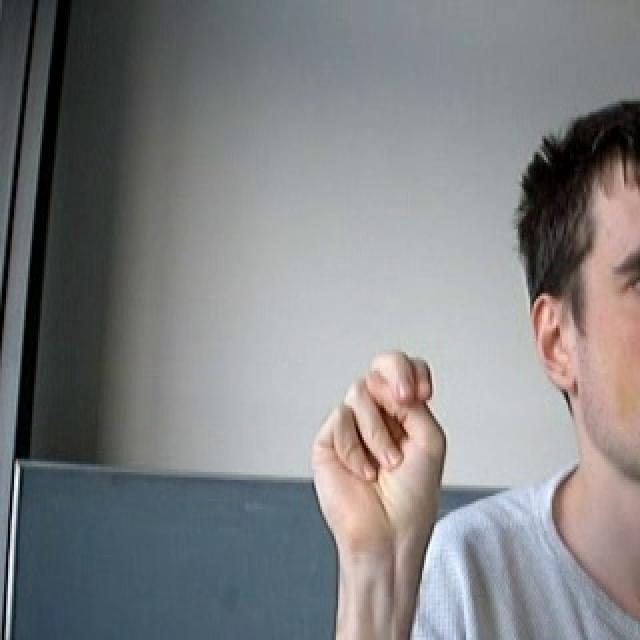N: (298, 336, 460, 552)
